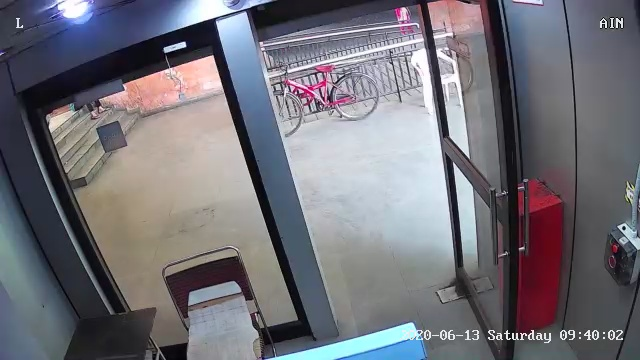open: (385, 3, 582, 357)
